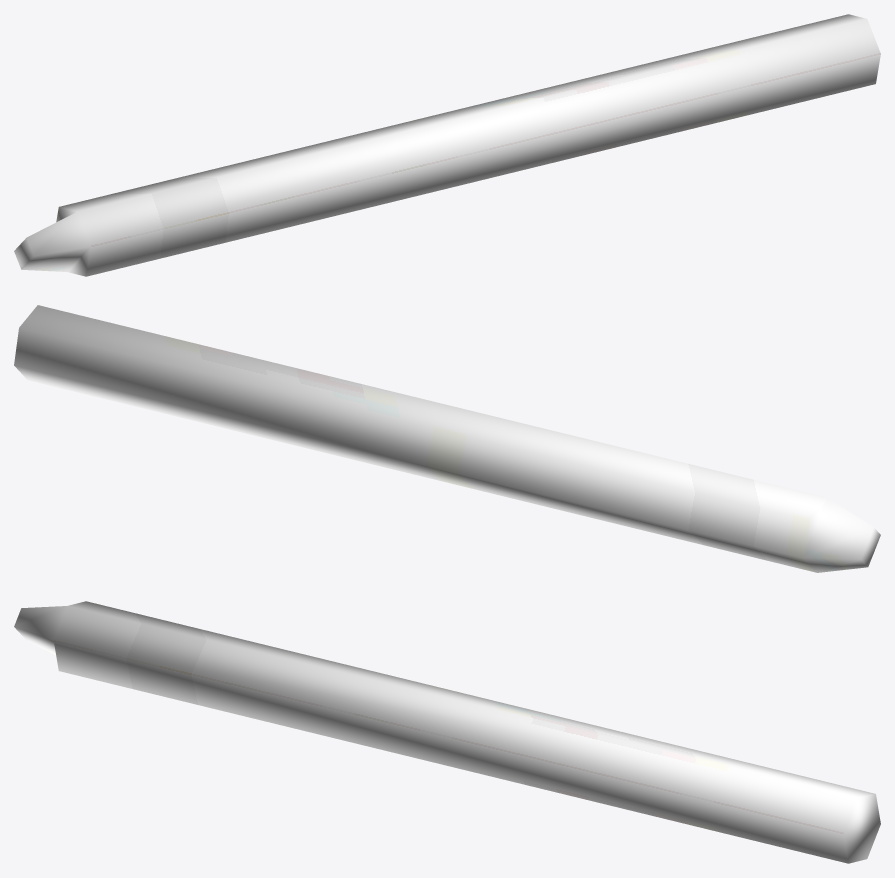
Rendered from bleu_chem__N000_bleu_chem_v0000.glb.
3 renders of one model, top to bottom at view 1: azimuth 30°, elevation 25°; view 2: azimuth 150°, elevation 25°; view 3: azimuth 330°, elevation 25°, orthographic.
Parts seen in each view (by area): view 1: N000_bleu_chem_v0000; view 2: N000_bleu_chem_v0000; view 3: N000_bleu_chem_v0000.
Boxes of the visible parts, left/top/right/bottom form: N000_bleu_chem_v0000: left=14, top=14, right=880, bottom=276; N000_bleu_chem_v0000: left=14, top=305, right=880, bottom=572; N000_bleu_chem_v0000: left=14, top=601, right=880, bottom=863.
Size of the model in its own units: 0.4245 by 0.0329 by 0.0329.
Materials: 1 (1 with a texture image).
